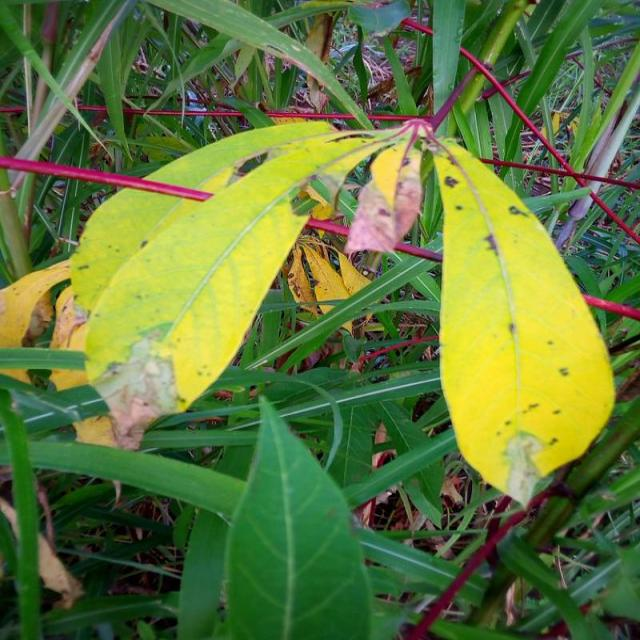cassava leaf: (65, 117, 404, 446), (428, 133, 616, 510), (224, 392, 374, 638)
